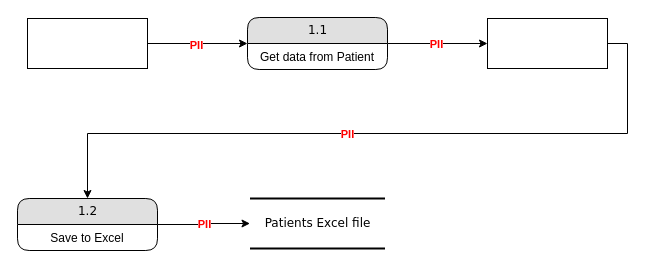
The diagram is 653 pixels wide and 271 high, and some of its shapes have lost their labels. Each missing label, with the centre of its shape:
Patient: pixel 87 43
Reception: pixel 547 43
